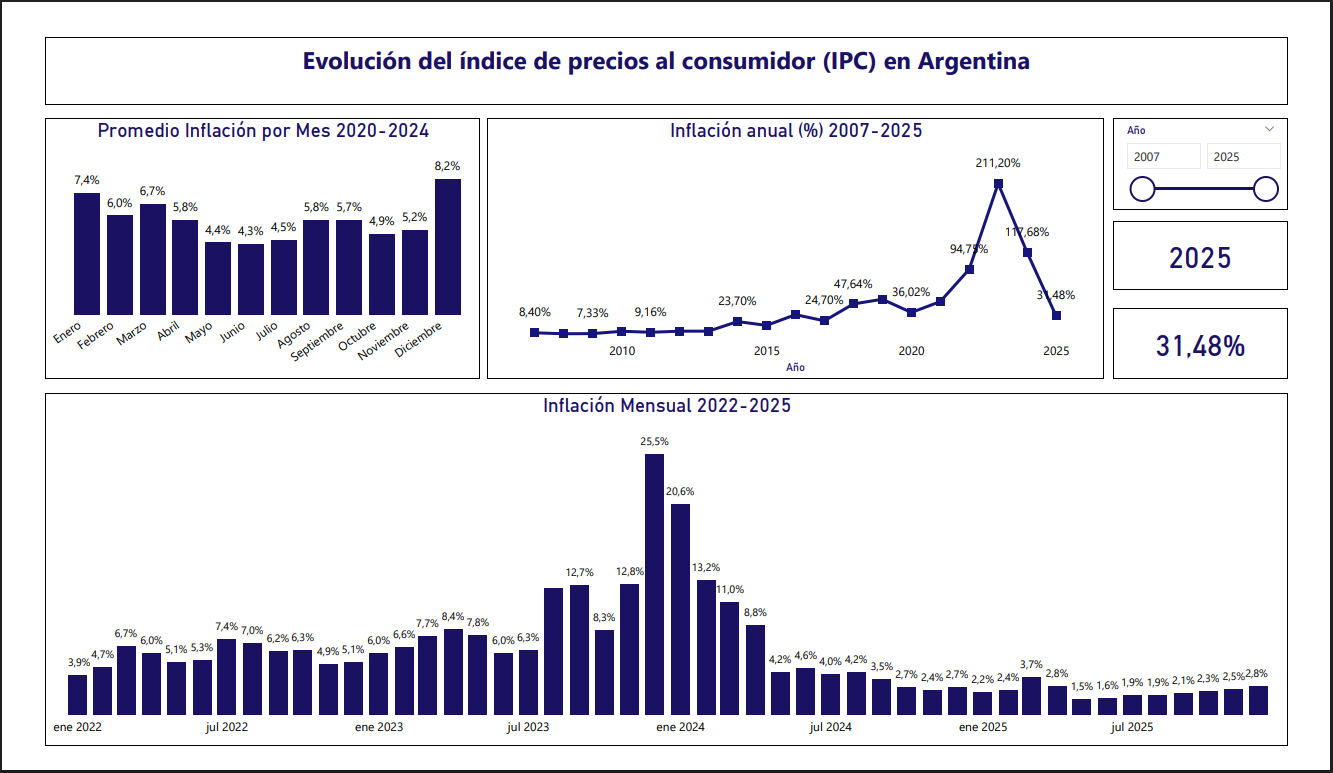

Layout of this report page (visuals, bound fields, positions):
{"tool":"powerbi","page":{"name":"Página 1","canvas":[1280,720],"ordinal":0},"visuals":[{"type":"lineStackedColumnComboChart","title":" Inflación anual (%)  2007-2025","fields":{"Y2":["inflacion_anual.Inflacion Formateada"],"Category":["Calendario.Año"]},"box":[461,92,617,261],"z":0},{"type":"slicer","fields":{"Values":["Calendario.Año"]},"box":[1086.5,91.7,174.4,92.7],"z":1000},{"type":"card","fields":{"Values":["inflacion_anual.Ultima Inflacion"]},"box":[1087,282,175,71],"z":2000},{"type":"textbox","box":[19,11,1243,68],"z":3000},{"type":"columnChart","title":"Inflación Mensual     2007-2025","fields":{"Category":["Calendario.Date"],"Y":["inflacion_mensual.Inflacion Mensual %"]},"box":[19,367,1243,353],"z":4000},{"type":"columnChart","title":"Promedio Inflación  por Mes  2020-2024","fields":{"Y":["promedio_inflacion.Promedio Inflacion Formateada"],"Category":["promedio_inflacion.Mes nombre"]},"box":[19,92,435,261],"z":5000},{"type":"card","fields":{"Values":["inflacion_anual.Etiqueta Ultimo Año"]},"box":[1087.5,194.5,174.4,69.5],"z":6000}]}

Visuals, with their boxes in screenshot pixels (x1, y1, x2, y2), scaled from the page's 1280x720 canvas onto the 1333x773 screenshot:
" Inflación anual (%)  2007-2025" lineStackedColumnComboChart: 480, 99, 1123, 379
slicer - Calendario.Año: 1131, 98, 1313, 198
card - inflacion_anual.Ultima Inflacion: 1132, 303, 1314, 379
textbox: 20, 12, 1314, 85
"Inflación Mensual     2007-2025" columnChart: 20, 394, 1314, 772
"Promedio Inflación  por Mes  2020-2024" columnChart: 20, 99, 473, 379
card - inflacion_anual.Etiqueta Ultimo Año: 1133, 209, 1314, 283
